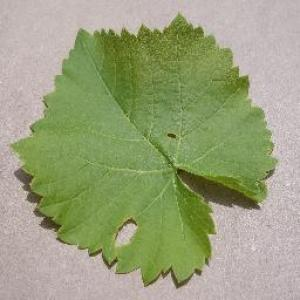Folha: (9, 11, 278, 288)
